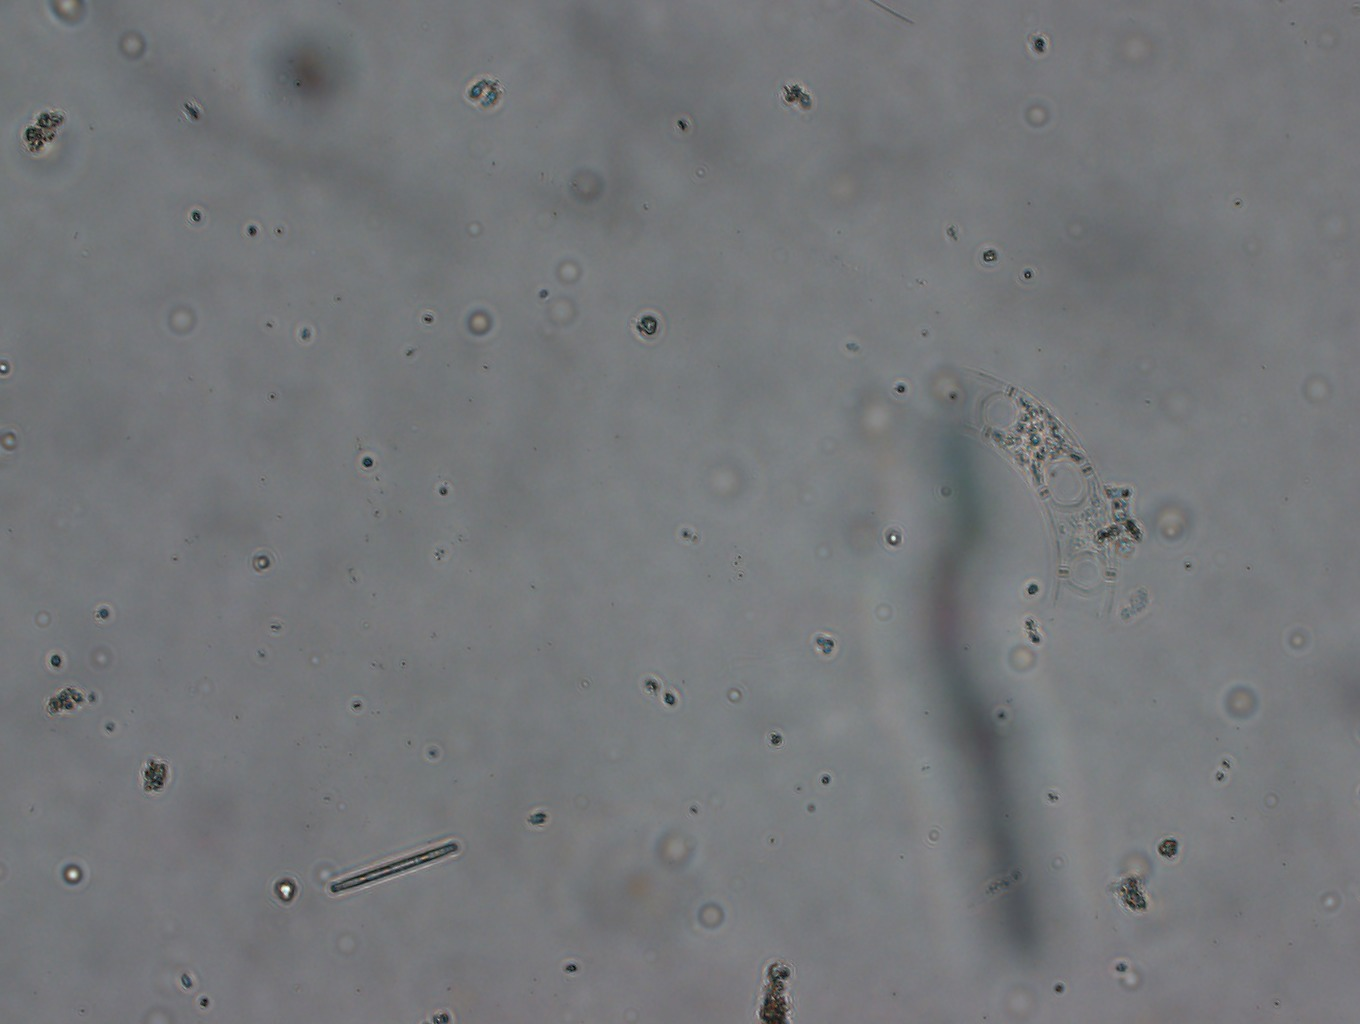eucampia: (910, 357, 1153, 696)
